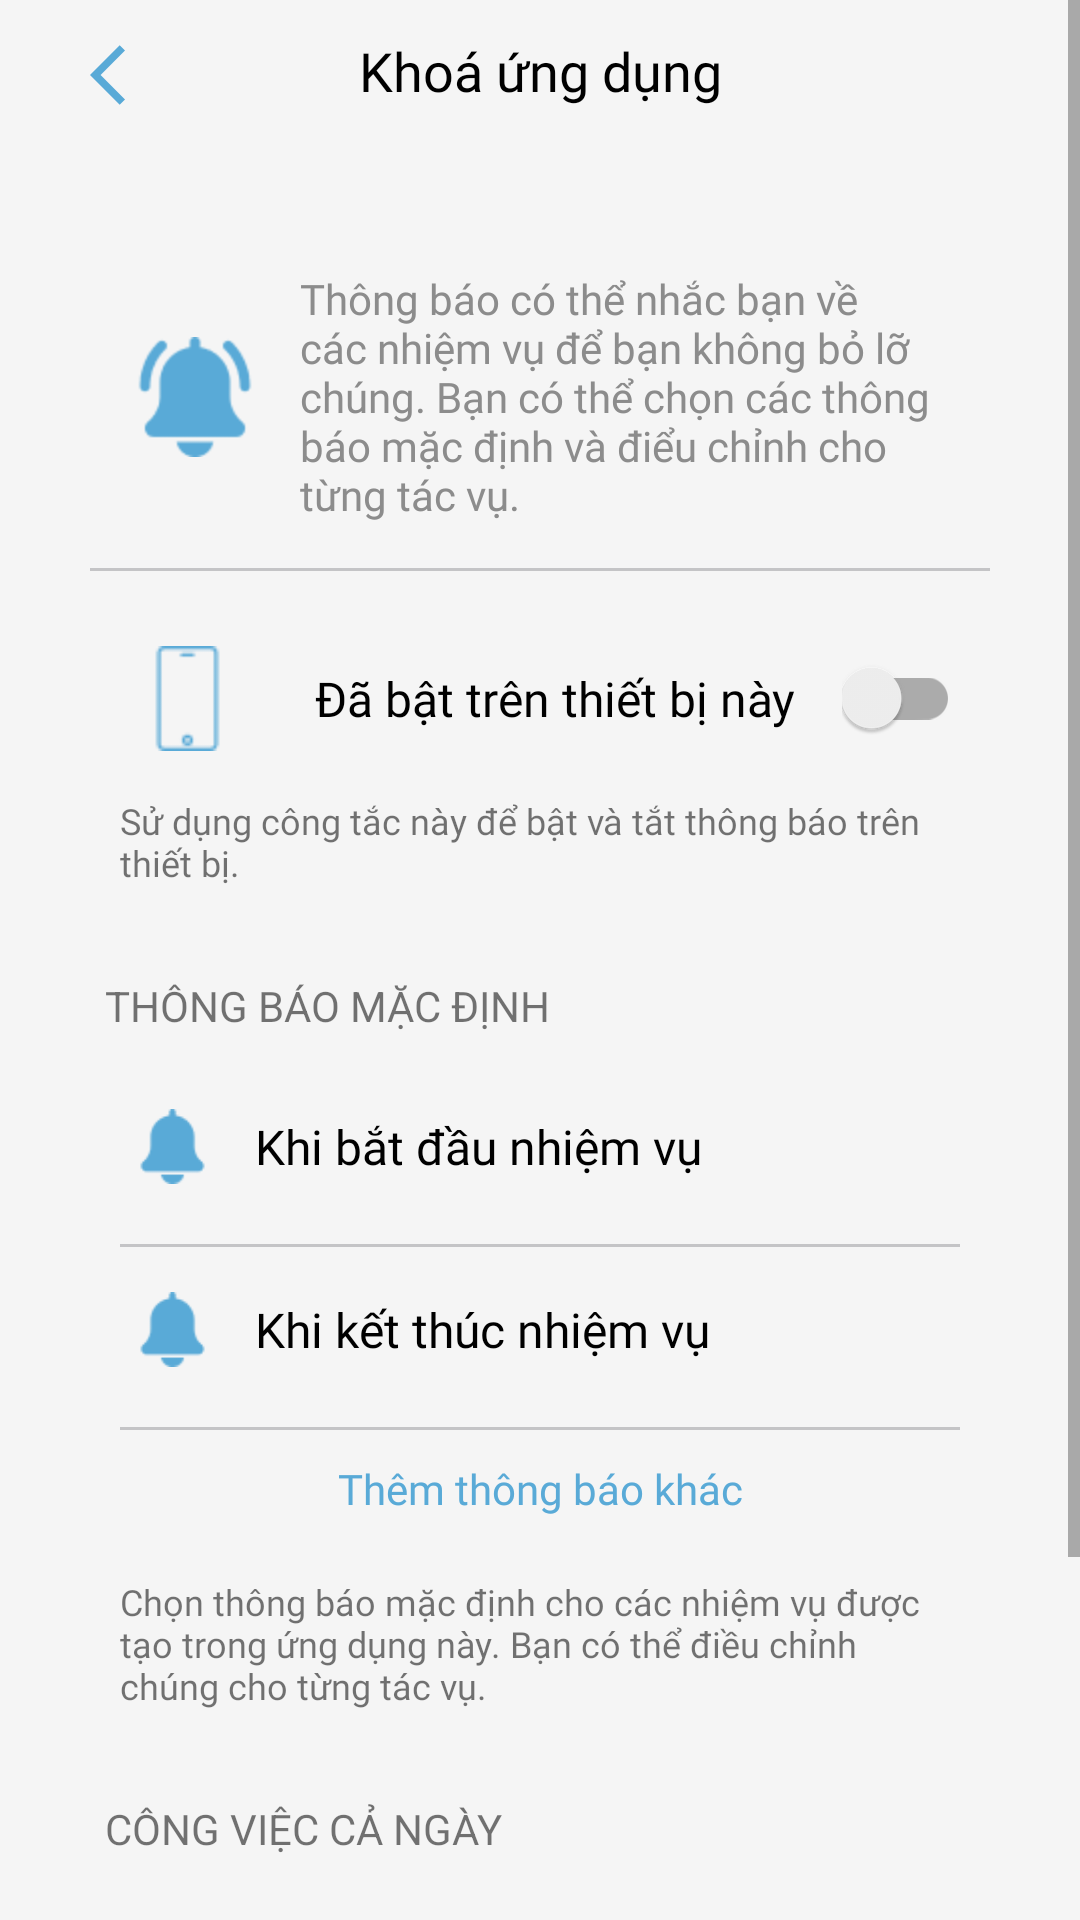

Where to tap for icons on this 1080px×1920px app screen, as point (x, y):
back toolbar: point (107, 75)
lock phone: point (187, 698)
noti: point (195, 397)
